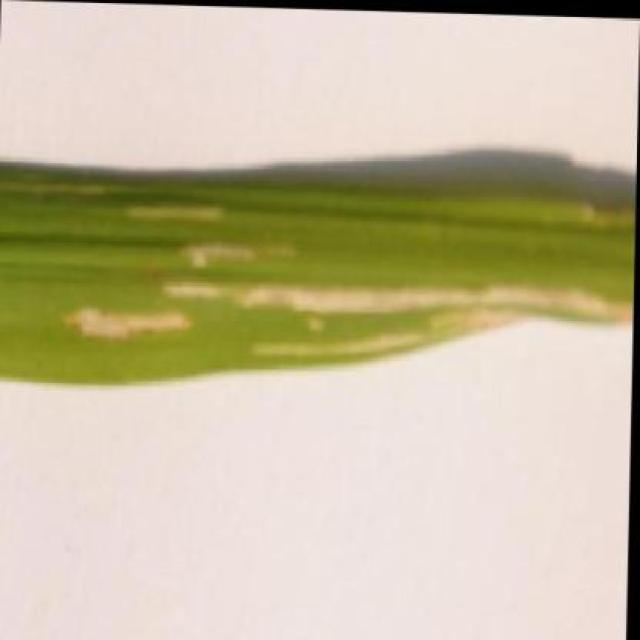Brown_Spot: (0, 172, 637, 400)
